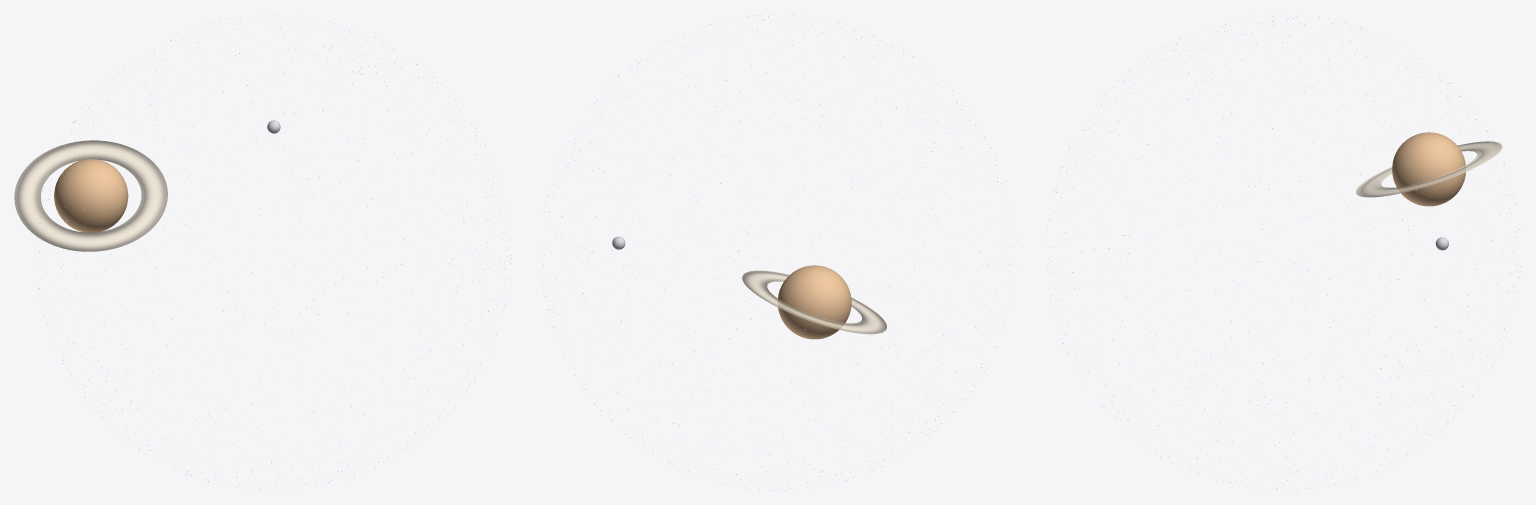
The model's file is scenery.glb.
3 renders of one model, left to right at view 1: azimuth 30°, elevation 25°; view 2: azimuth 150°, elevation 25°; view 3: azimuth 270°, elevation 25°, orthographic.
Parts seen in each view (by area): view 1: Rings, Planet, Stars; view 2: Planet, Rings, Stars; view 3: Planet, Rings, Stars.
Boxes of the visible parts, x1,y1,x2,y2 form: Rings: [14, 140, 167, 251]; Planet: [54, 159, 128, 232]; Stars: [34, 14, 511, 490]; Planet: [778, 265, 851, 339]; Rings: [742, 270, 886, 334]; Stars: [540, 14, 1016, 490]; Planet: [1392, 132, 1465, 206]; Rings: [1356, 141, 1502, 197]; Stars: [1046, 14, 1521, 490].
Bounding box in the file's own units: 360 × 360 × 360.
